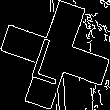L_N: (32, 26, 78, 84)
